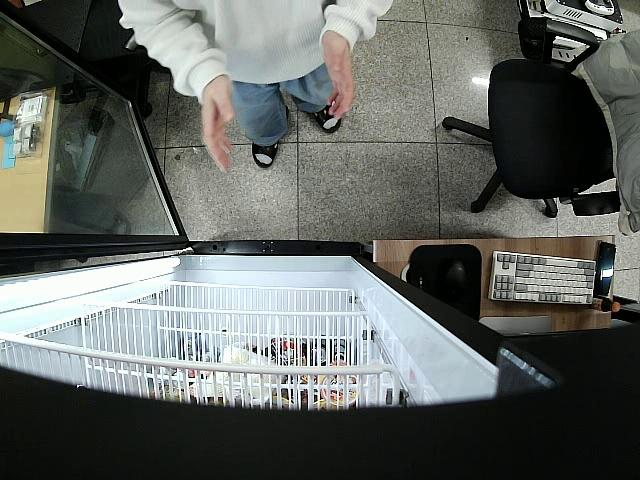00_hand: (200, 76, 235, 176), (321, 33, 354, 123)
